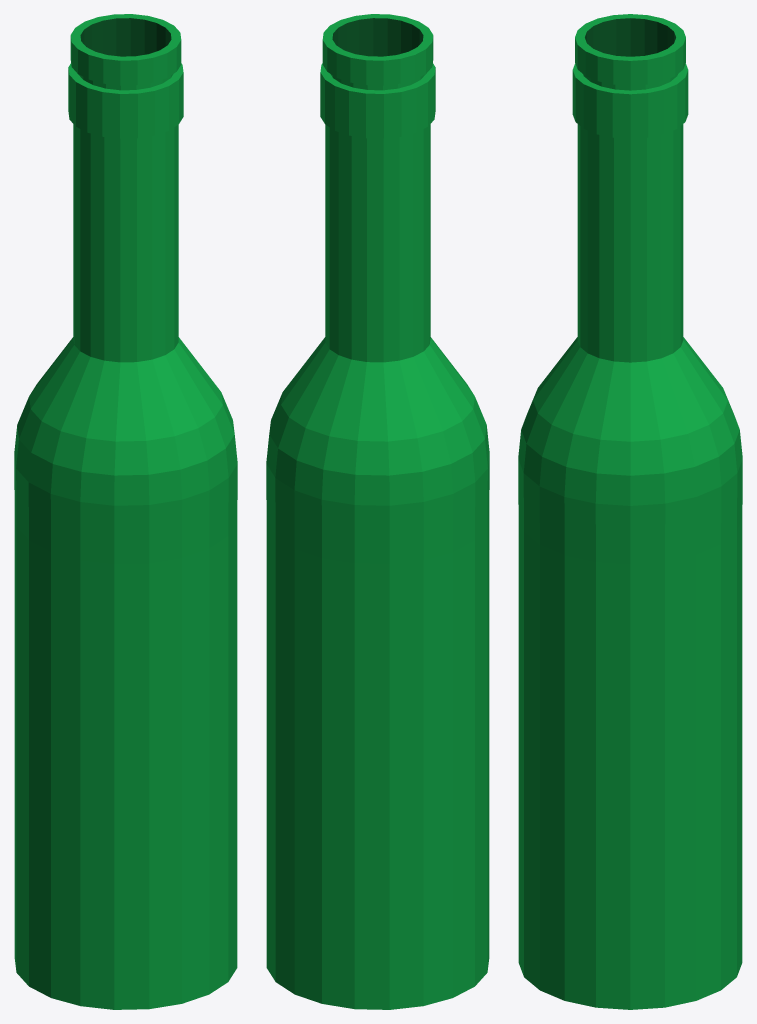
Rendered from Bottle5.fbx.
3 views of the same model, side by side, from view 1: azimuth 30°, elevation 25°; view 2: azimuth 150°, elevation 25°; view 3: azimuth 270°, elevation 25° (orthographic).
Visible parts, largest first — view 1: Buttle2; view 2: Buttle2; view 3: Buttle2.
Boxes of the visible parts, x1=… form: Buttle2: x1=14, y1=14, x2=237, y2=1009; Buttle2: x1=266, y1=14, x2=489, y2=1009; Buttle2: x1=518, y1=14, x2=742, y2=1009.
Size of the model in its own units: 395 by 1793 by 395.
